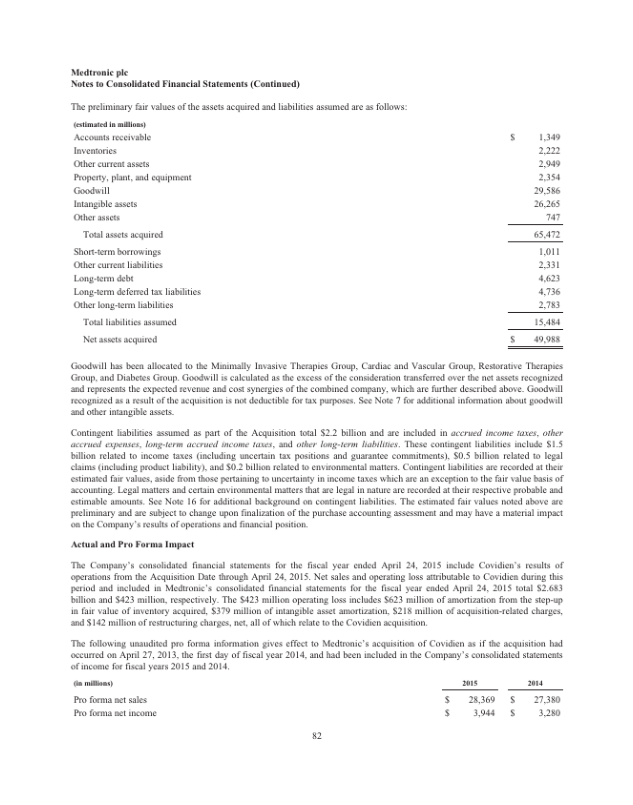table: (494, 120, 570, 356), (430, 674, 571, 728)
